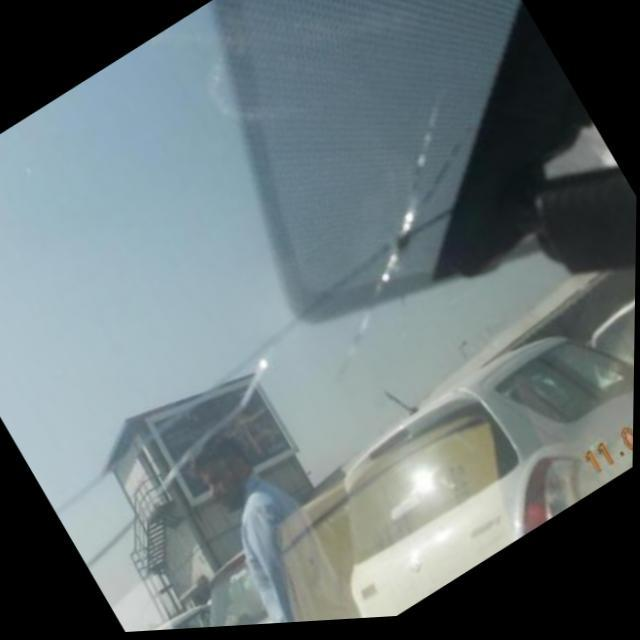glass shatter: (373, 202, 453, 279)
